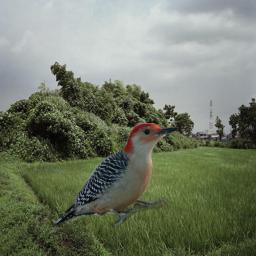Woodpecker: (53, 123, 182, 227)
